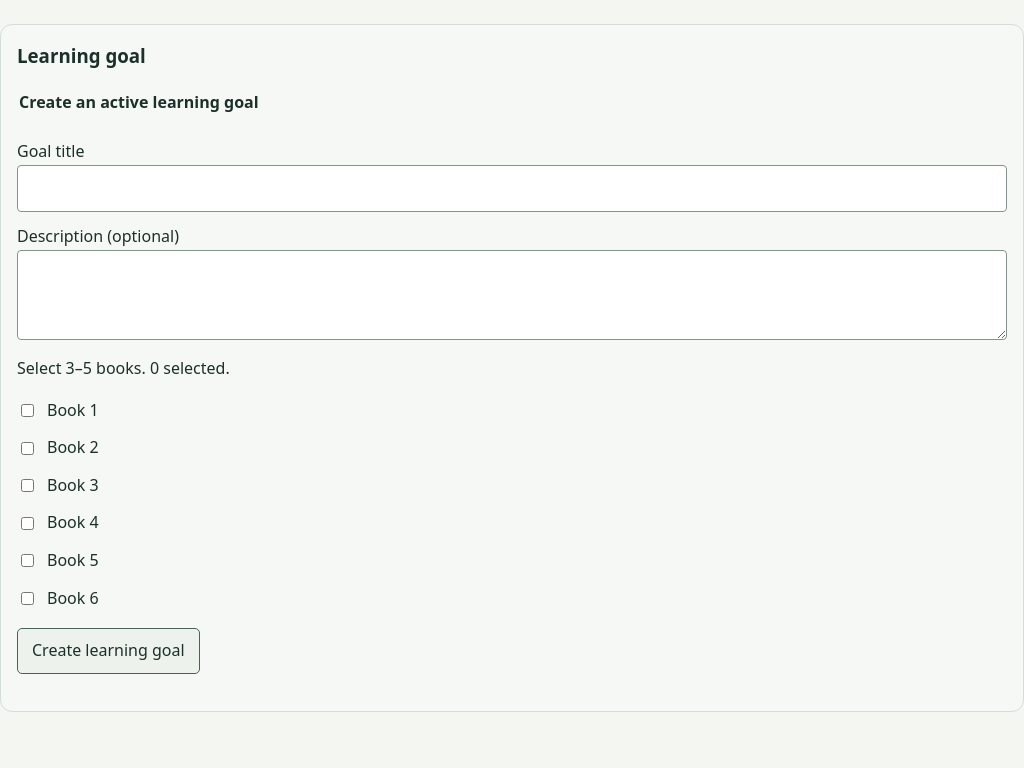
Test case: learning goals UI › guides creation and validates the three-book minimum
This screenshot has width=1024, height=768.
Type "Systems" into the field labelled "Goal title" at (512, 189), box [17,165,1007,212]
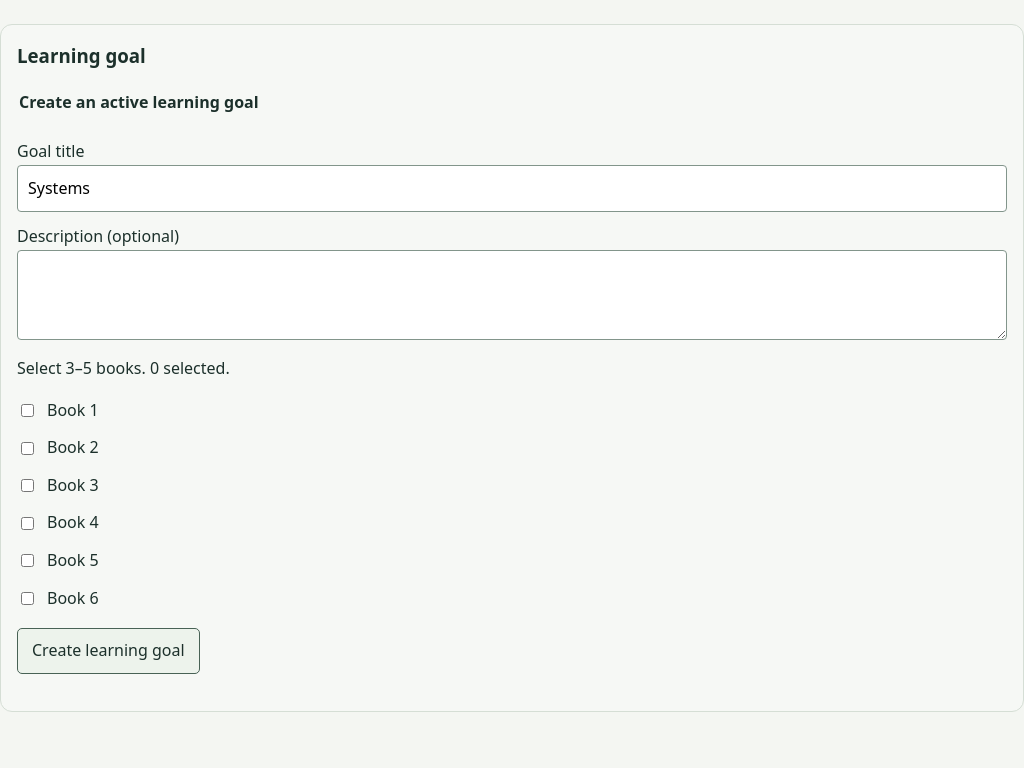
Click the checkbox labelled "Book 1" at (28, 410), box [21,404,34,417]
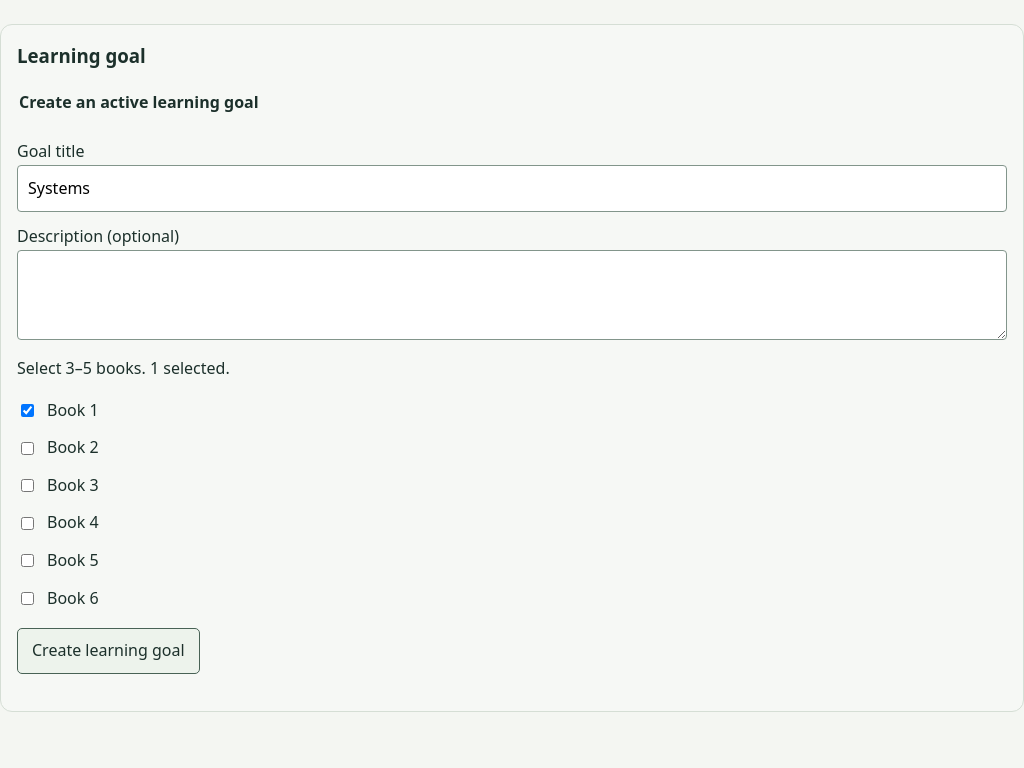
Click the checkbox labelled "Book 2" at (28, 448), box [21,442,34,454]
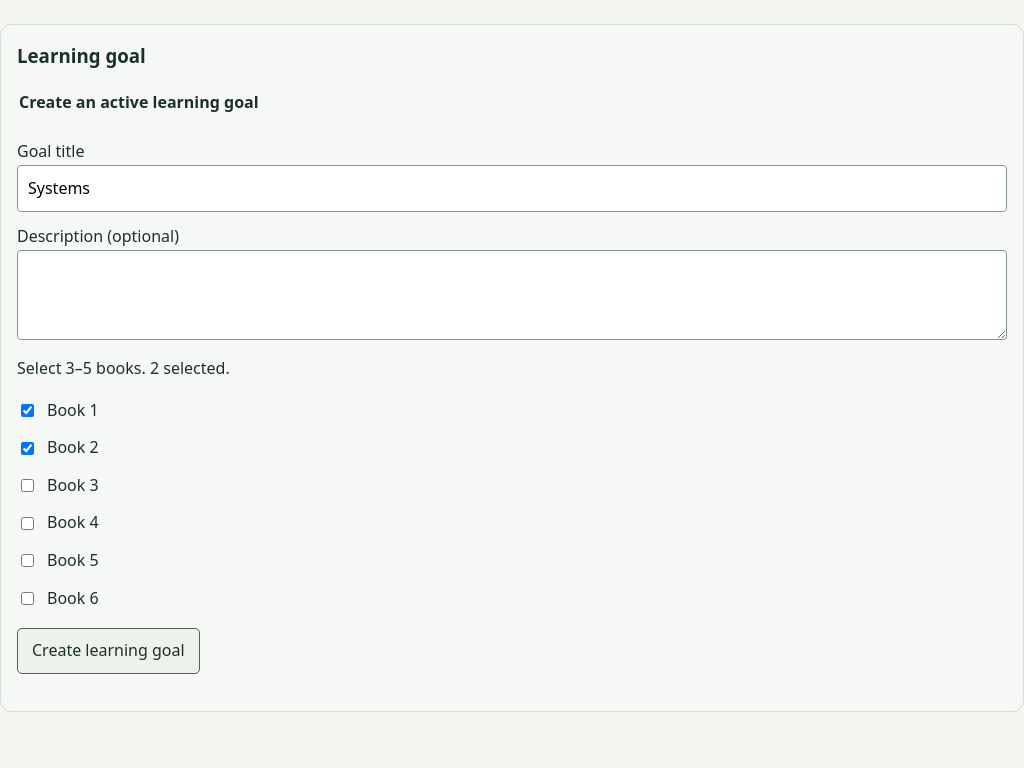
Click the button "Create learning goal" at (108, 651), box [17,628,200,674]
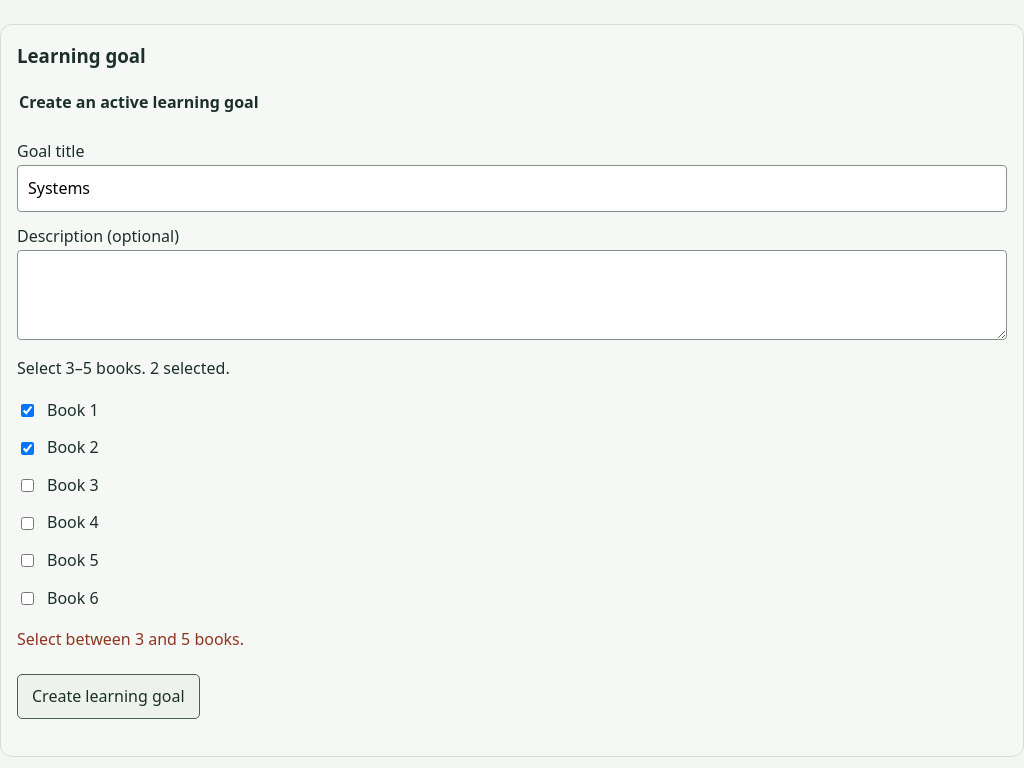
Expected: the message shows "Select between 3 and 5 books", [17,628,244,650]
